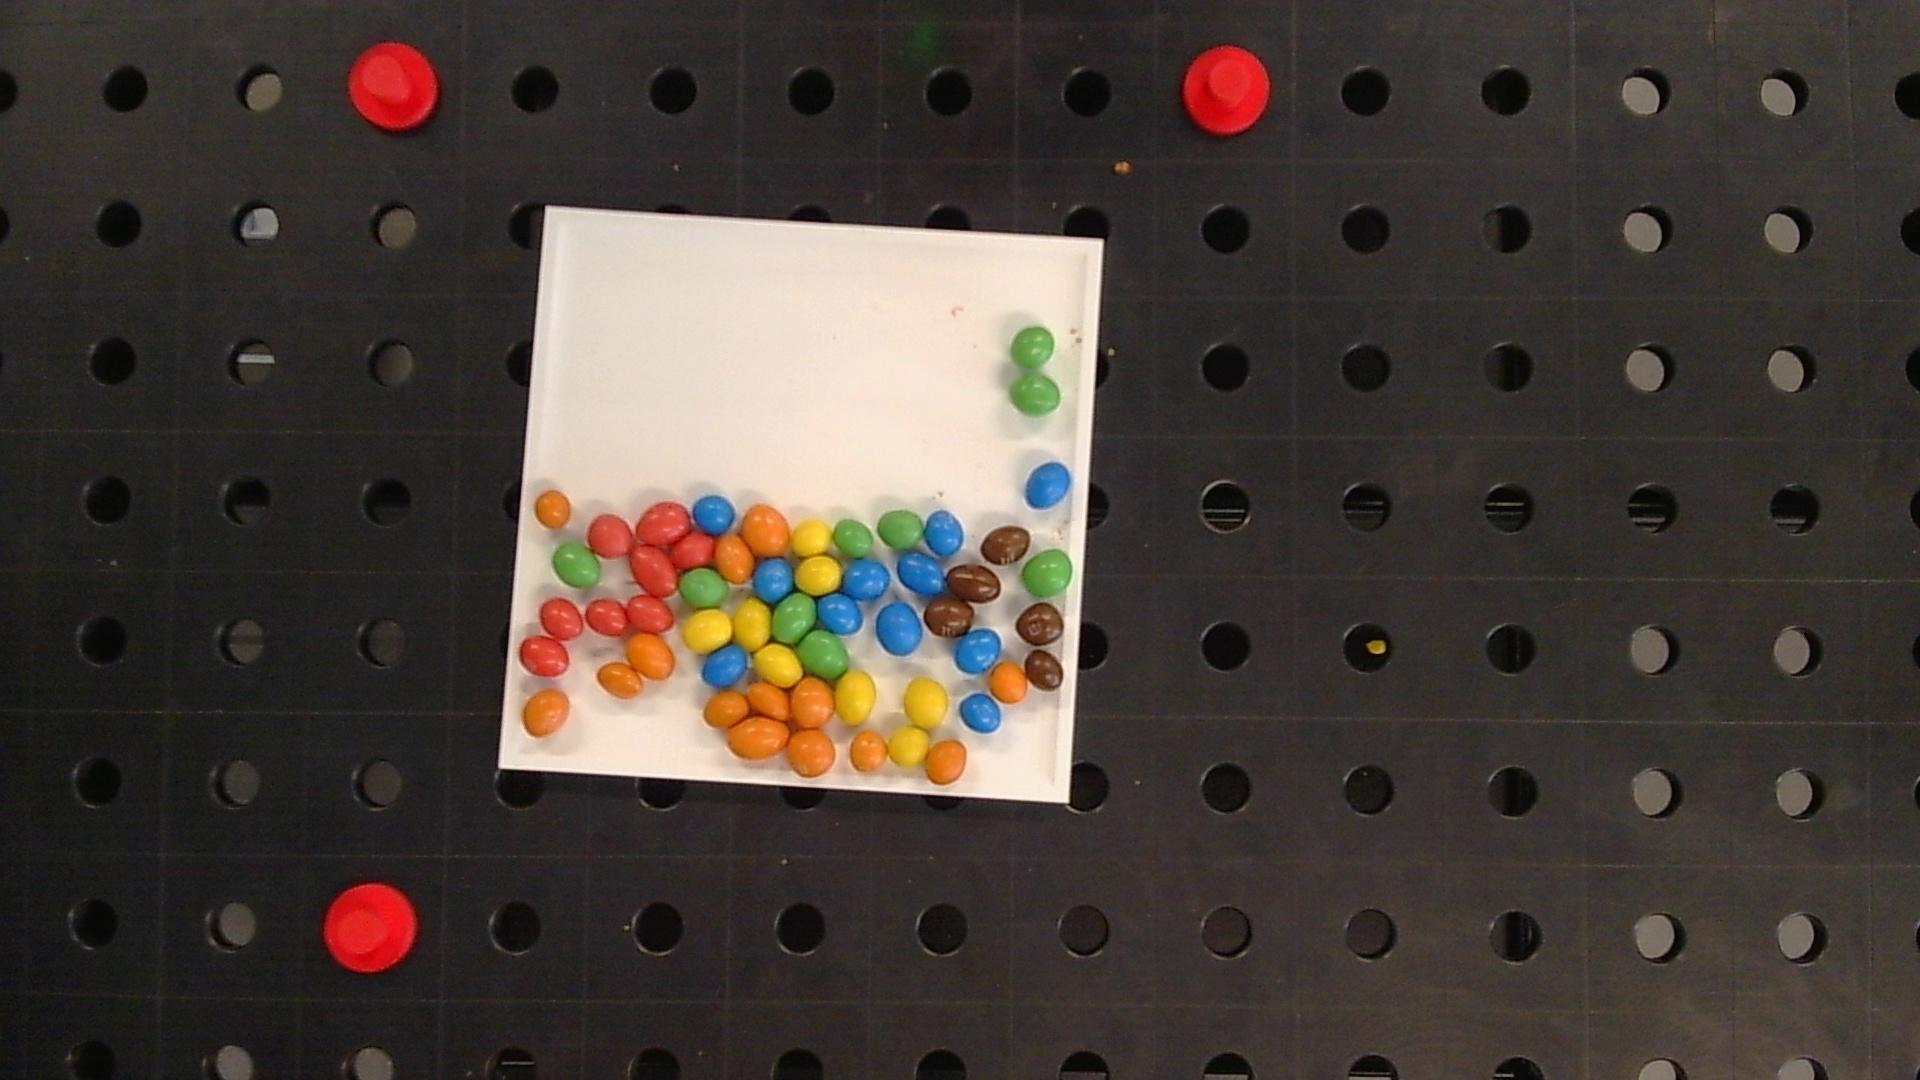blue: (877, 603, 923, 654), (955, 629, 1001, 674), (1026, 463, 1071, 508), (898, 553, 944, 595), (843, 559, 890, 600), (703, 646, 749, 687), (819, 592, 864, 633), (753, 556, 794, 601), (924, 510, 964, 555), (960, 694, 1002, 733), (692, 495, 736, 533)
brown: (1017, 603, 1065, 646), (945, 564, 1001, 603), (980, 526, 1030, 564), (924, 599, 973, 637), (1025, 650, 1064, 690)
green: (799, 630, 848, 678), (1022, 550, 1072, 596), (1010, 372, 1062, 415), (553, 542, 600, 588), (773, 593, 815, 642), (878, 509, 924, 549), (680, 568, 728, 607), (1010, 327, 1055, 367), (833, 518, 874, 558)
orange: (728, 716, 790, 758), (741, 504, 790, 555), (626, 633, 675, 679), (790, 678, 835, 728), (524, 690, 571, 736), (787, 731, 836, 775), (715, 534, 754, 583), (926, 741, 967, 783), (597, 661, 644, 698), (704, 691, 749, 728), (849, 731, 887, 771), (748, 682, 790, 719), (990, 661, 1027, 702), (534, 489, 571, 527)
red: (630, 543, 676, 596), (636, 501, 691, 543), (520, 636, 570, 676), (587, 513, 633, 555), (626, 595, 674, 632), (541, 599, 583, 638), (585, 599, 629, 636), (673, 530, 713, 564)
yellow: (683, 609, 732, 653), (905, 678, 948, 727), (835, 671, 876, 723), (756, 645, 802, 684), (735, 599, 770, 649), (796, 555, 841, 593), (887, 725, 928, 766), (791, 518, 832, 555)
